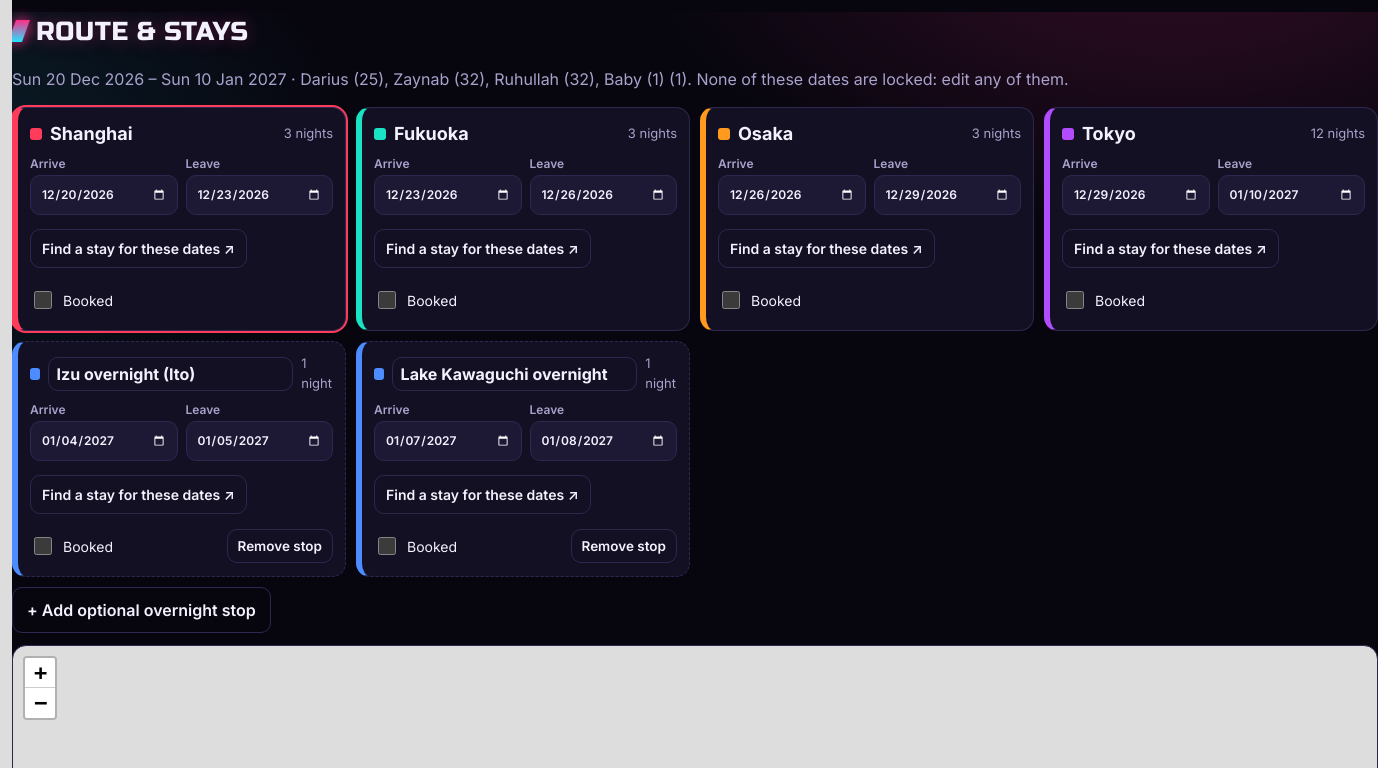
Scenario: Route › validates edited dates
The width and height of the screenshot is (1378, 768).
Type "2026-12-22" into the 2nd date field labelled "Arrive" at point(448, 195), box [374,175,522,215]
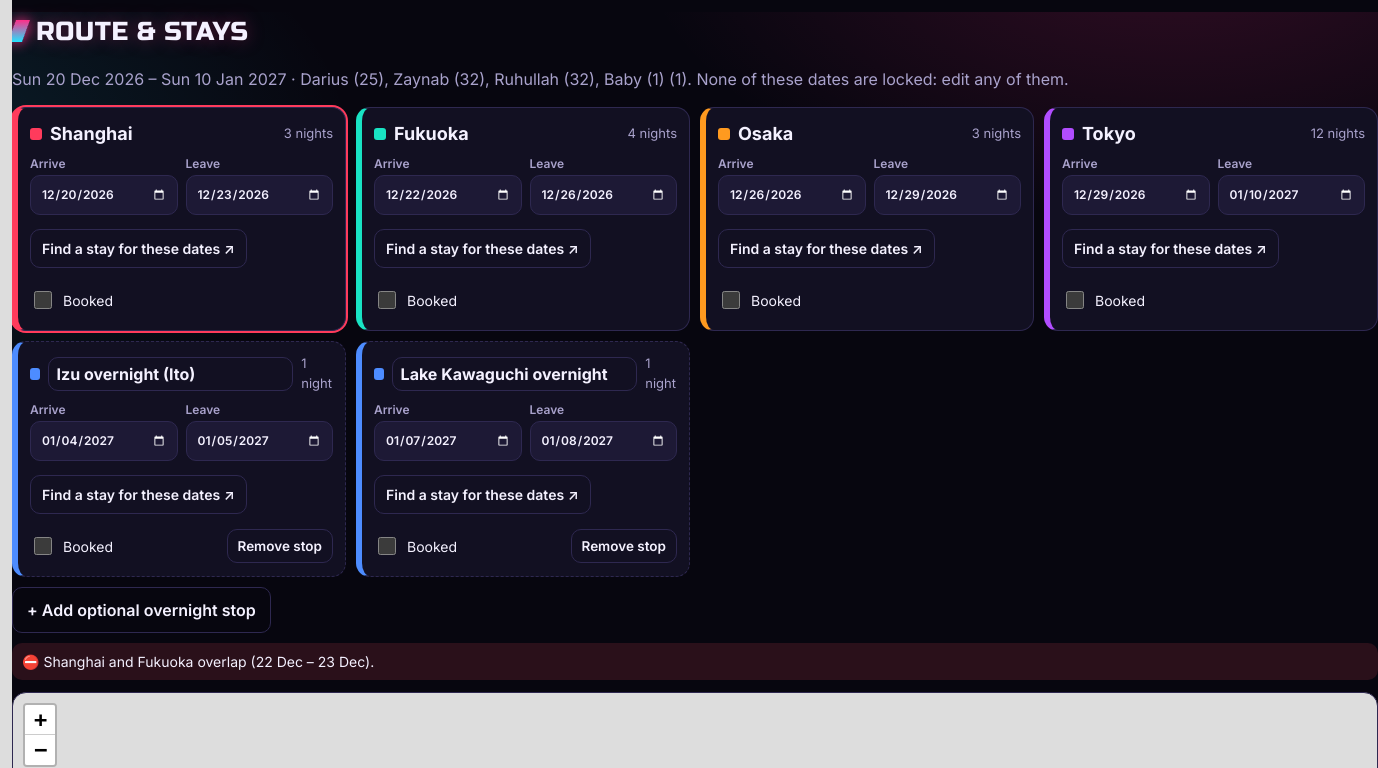
Check: the list item "⛔ Shanghai and Fukuoka overlap (22 Dec – 23 Dec)." is shown, box [12,643,1377,680]
